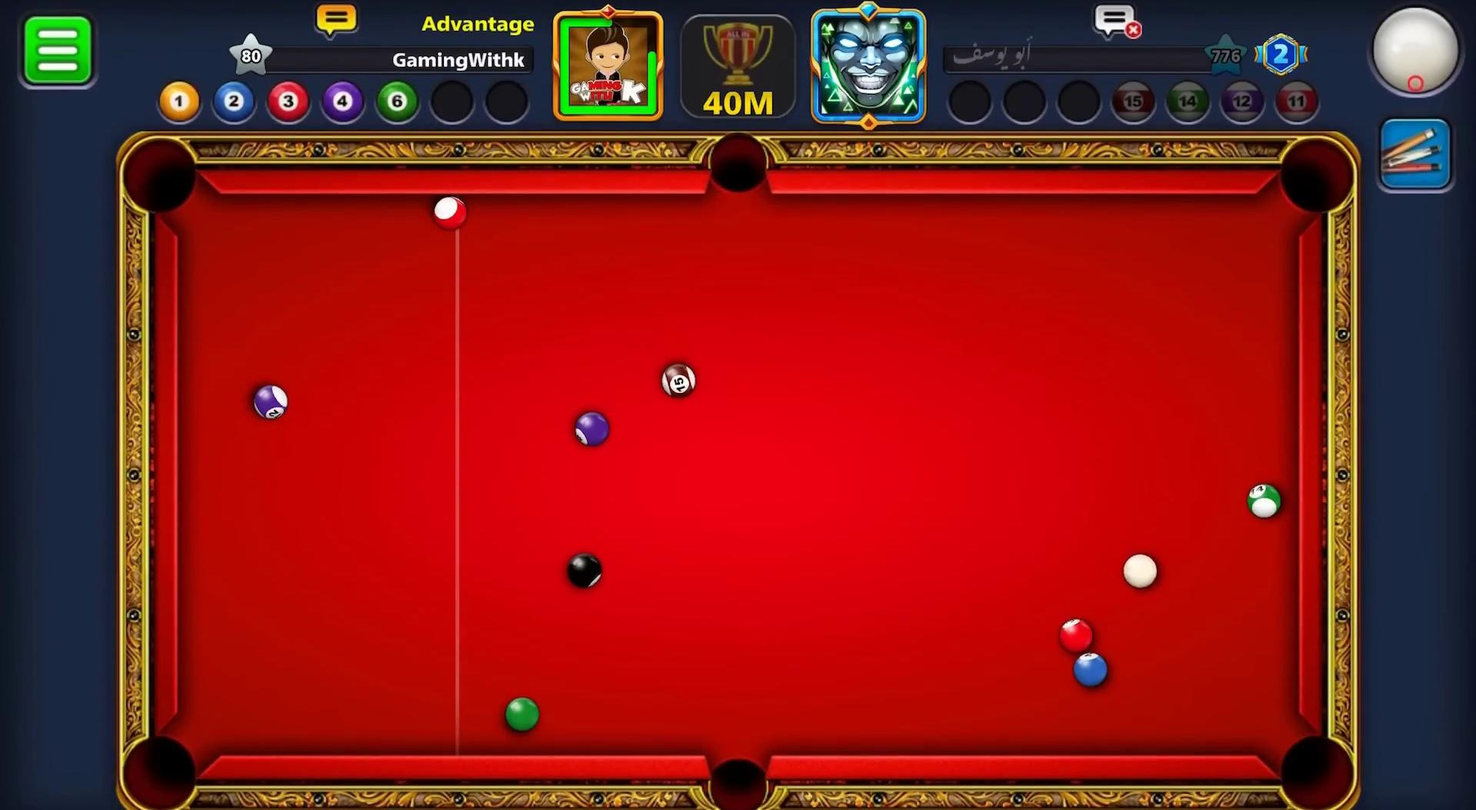Ball: (243, 371, 299, 427), (561, 402, 618, 455), (422, 185, 474, 241), (555, 547, 611, 595), (652, 358, 702, 403), (501, 692, 545, 738), (1243, 477, 1286, 521), (1071, 648, 1111, 689), (1055, 616, 1095, 653)
Hole: (100, 121, 219, 237), (1268, 124, 1361, 232), (1261, 718, 1371, 809), (684, 125, 791, 212), (691, 738, 784, 809), (122, 733, 199, 808)
Play_Area: (176, 192, 1297, 755)
Spin: (1363, 0, 1475, 111)
White: (1120, 548, 1162, 588)
